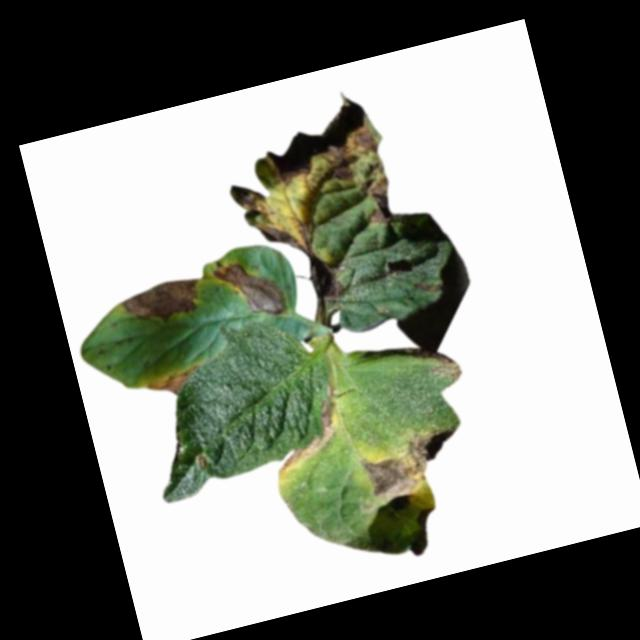Early_blight: (221, 84, 420, 317), (353, 423, 470, 507), (259, 381, 351, 473), (209, 244, 289, 328), (113, 273, 207, 336), (143, 364, 202, 402), (427, 345, 464, 386), (410, 278, 442, 300)
